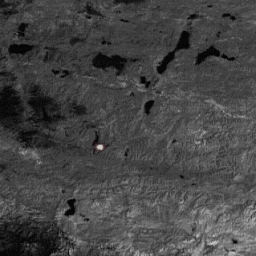Target: (96, 142, 104, 152)
